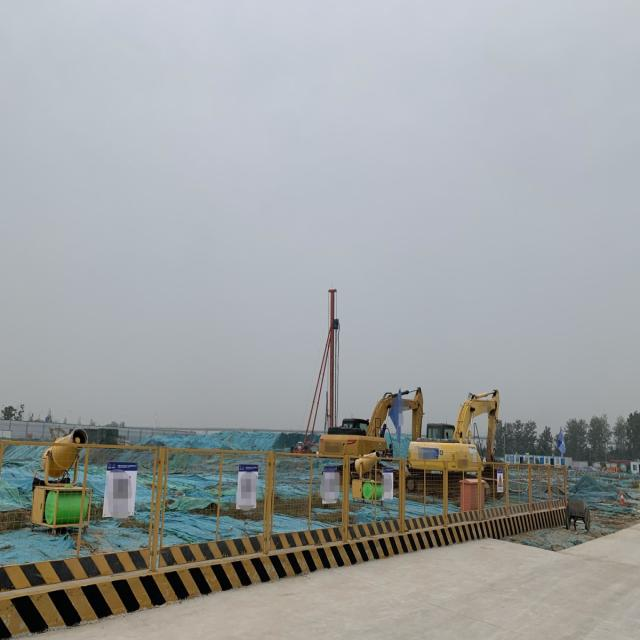excavator: (405, 388, 505, 501), (316, 387, 424, 486)
